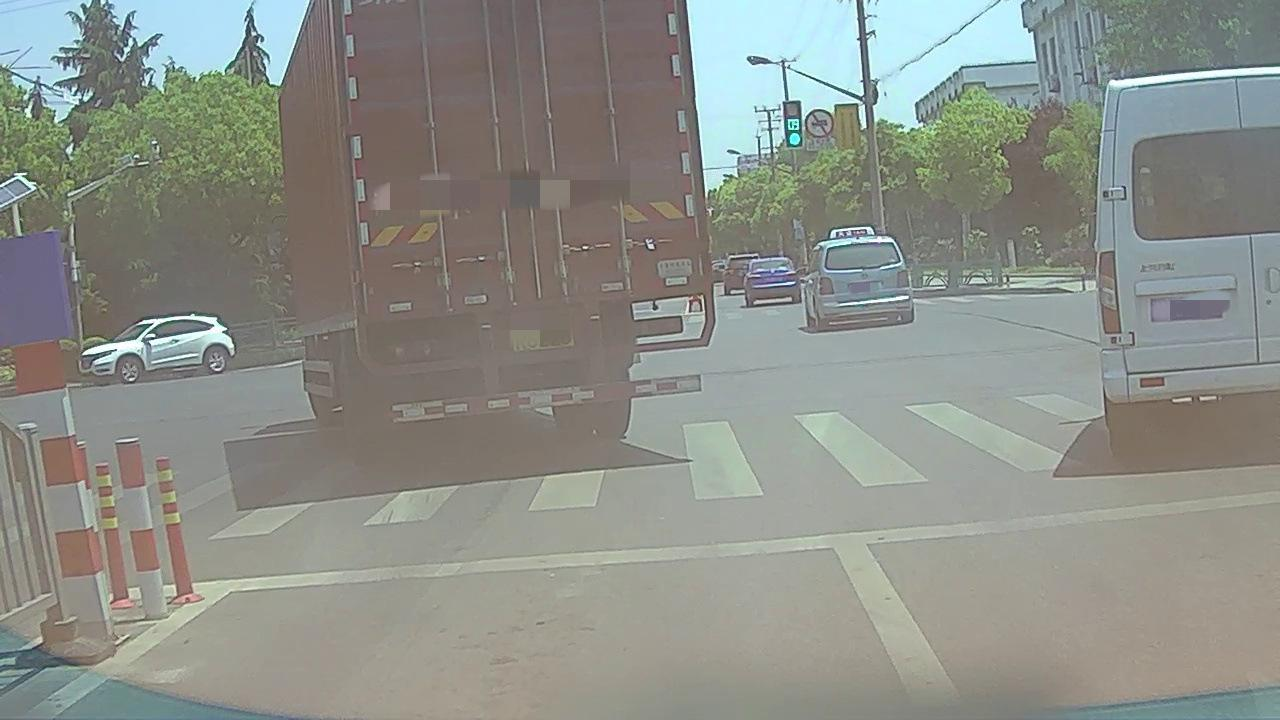traffic_light: (785, 102, 803, 147)
